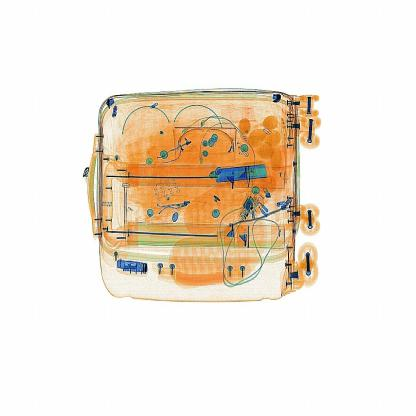pliers: (210, 159, 271, 193)
